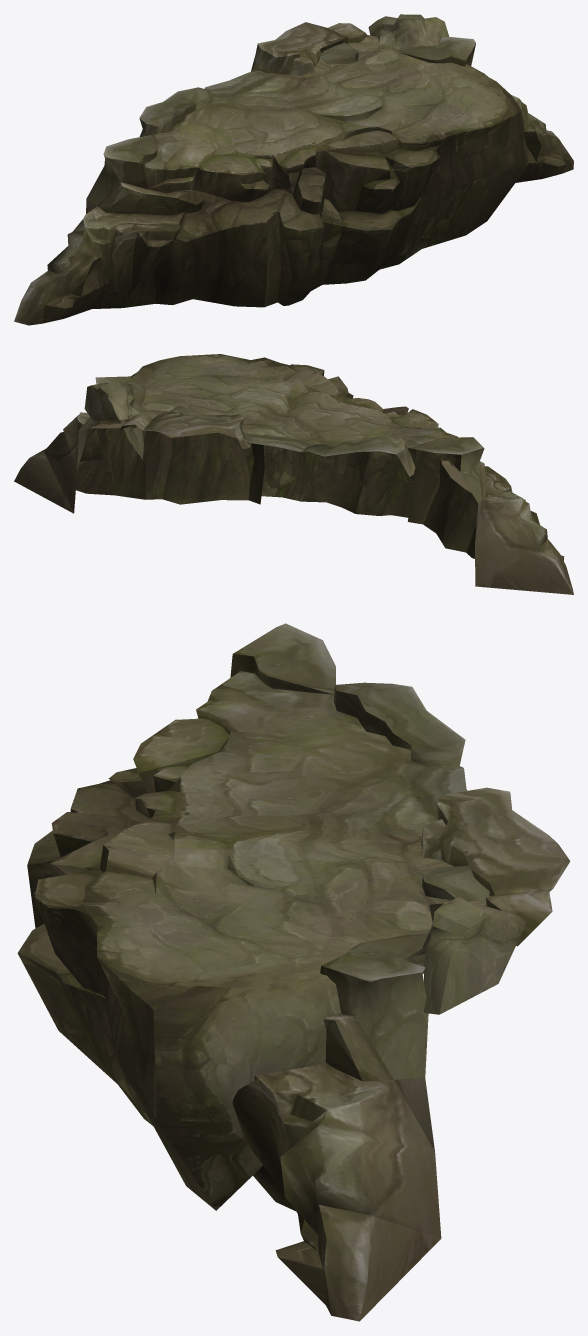
The model's file is s7_jiemian_shitou002.FBX.
3 renders of one model, top to bottom at view 1: azimuth 30°, elevation 25°; view 2: azimuth 150°, elevation 25°; view 3: azimuth 270°, elevation 25°, orthographic. The views are drawn at different scales.
Visible parts, largest first — view 1: s7_jiemian_shitou001; view 2: s7_jiemian_shitou001; view 3: s7_jiemian_shitou001.
Part boxes in pixels (x1,y1,x2,y2): s7_jiemian_shitou001: (14,14,573,325); s7_jiemian_shitou001: (14,354,573,594); s7_jiemian_shitou001: (17,623,570,1321).
Size of the model in its own units: 73.41 by 19.67 by 32.74.
